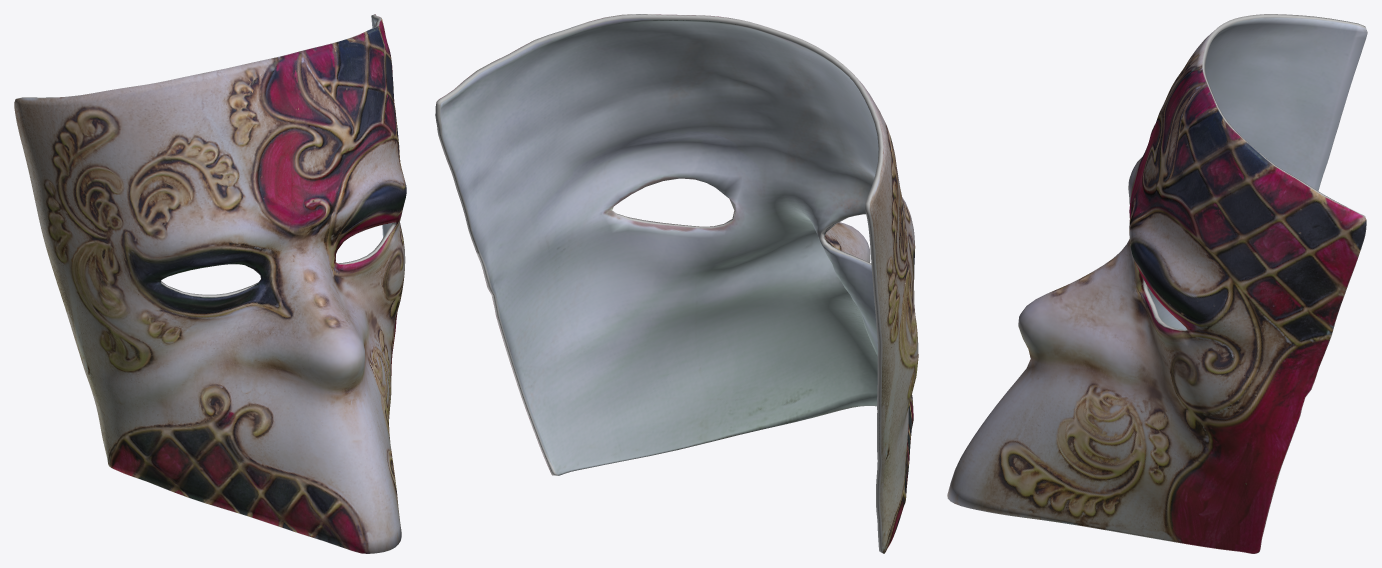
The model's file is alt-frangg.glb.
3 views of the same model, side by side, from view 1: azimuth 30°, elevation 25°; view 2: azimuth 150°, elevation 25°; view 3: azimuth 270°, elevation 25° (orthographic). The views are drawn at different scales.
Visible parts, largest first — view 1: Plane.001; view 2: Plane.001; view 3: Plane.001.
Part boxes in pixels (x1=…): Plane.001: x1=14, y1=14, x2=406, y2=553; Plane.001: x1=435, y1=14, x2=918, y2=553; Plane.001: x1=947, y1=14, x2=1367, y2=553.
Bounding box in the file's own units: 0.2855 × 0.306 × 0.2678.
Materials: 1 (1 with a texture image).
